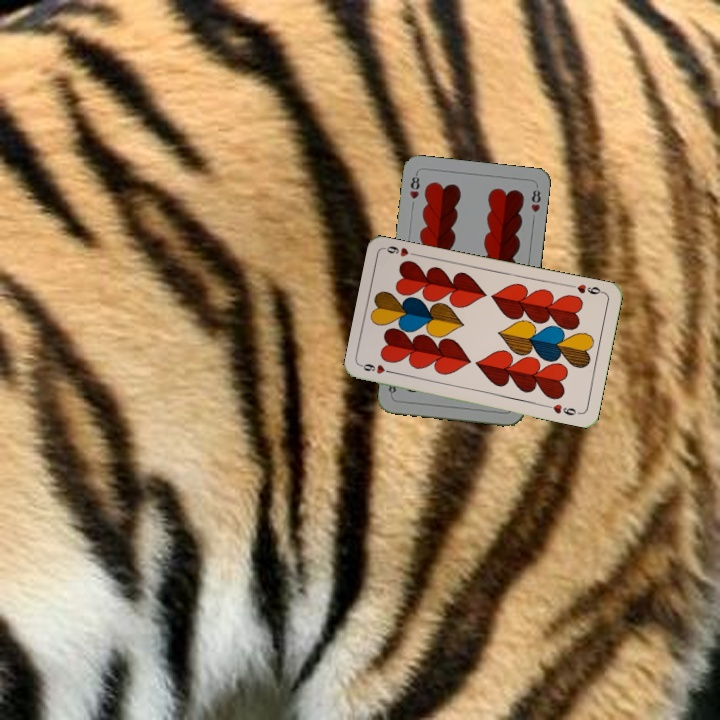H8: (406, 169, 422, 202)
H9: (566, 280, 607, 297), (358, 360, 398, 377)
